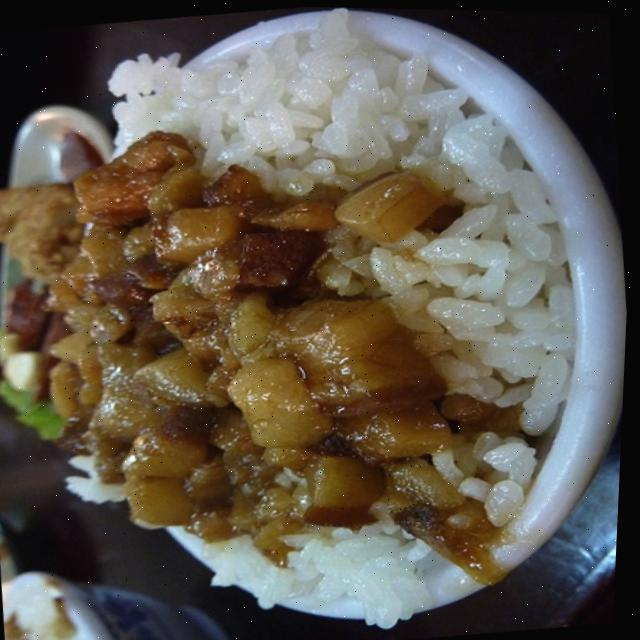猪肉菜式: (0, 3, 637, 640)
